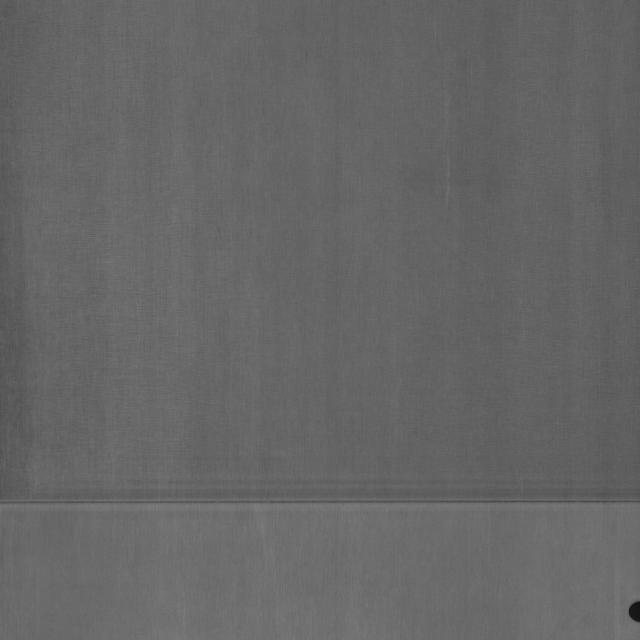crease: (2, 488, 639, 522)
crescent_gap: (626, 596, 640, 624)
